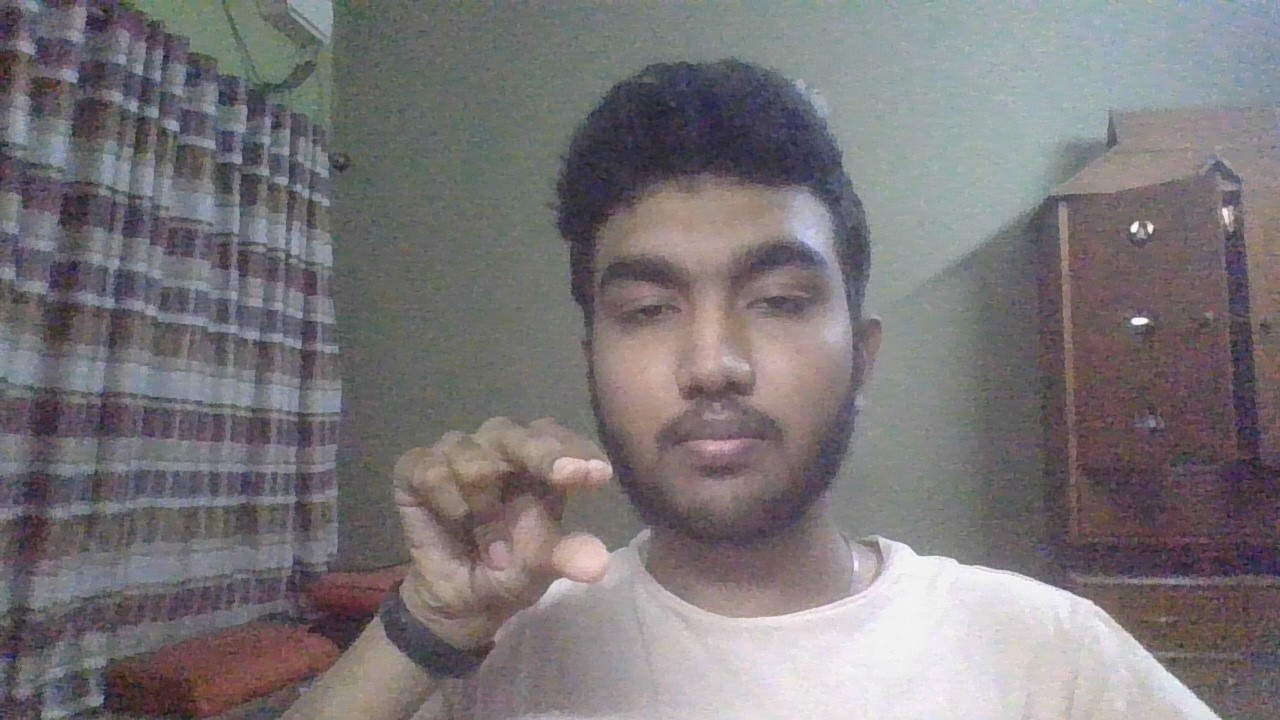No: (374, 400, 630, 664)
